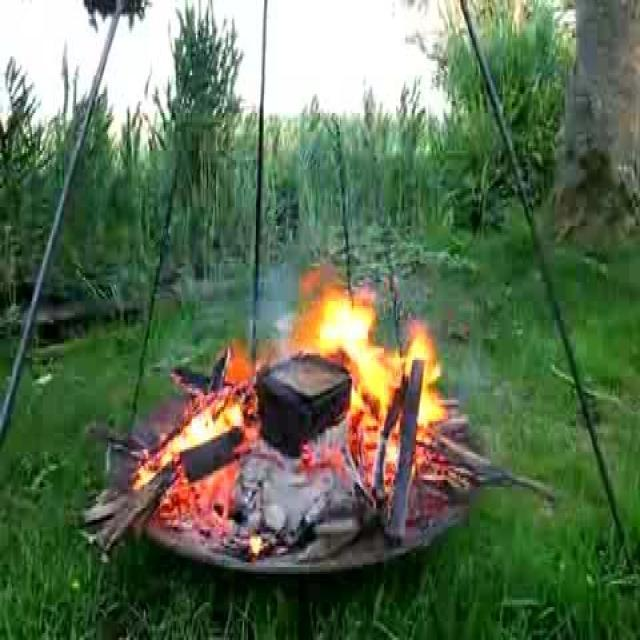Fire: (328, 287, 430, 447)
